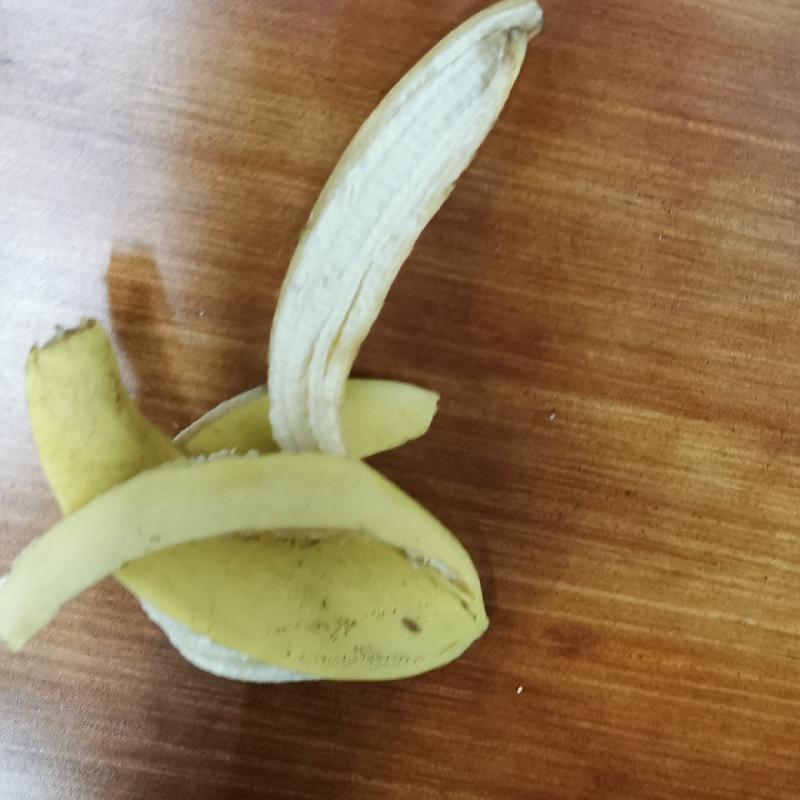bananas: (1, 3, 545, 691)
